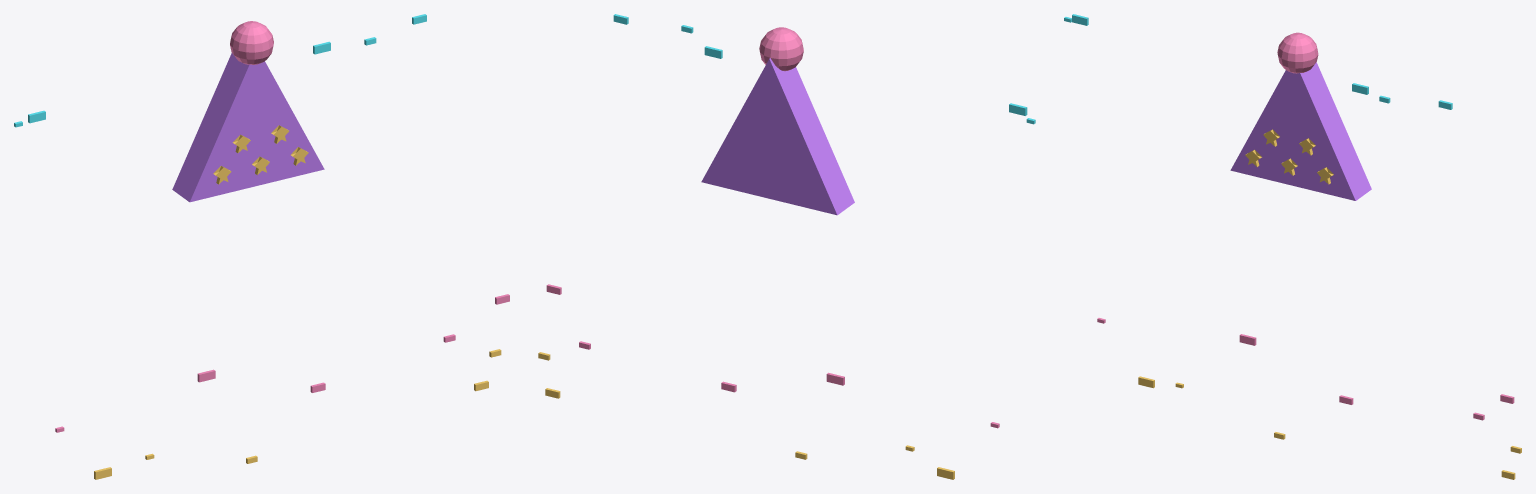
Rendered from birthday.glb.
The picture shows the model from 3 angles, left to right: view 1: azimuth 30°, elevation 25°; view 2: azimuth 150°, elevation 25°; view 3: azimuth 330°, elevation 25°; orthographic projection. The views are drawn at different scales.
Parts seen in each view (by area): view 1: party hat, pom pom; view 2: party hat, pom pom; view 3: party hat, pom pom.
Part boxes in pixels (x1,y1,x2,y2): party hat: (172,53,324,202); pom pom: (230,21,273,64); party hat: (701,58,854,215); pom pom: (759,27,803,71); party hat: (1230,62,1371,200); pom pom: (1277,32,1318,73).
Size of the model in its own units: 4.05 by 3.4 by 0.3675.
